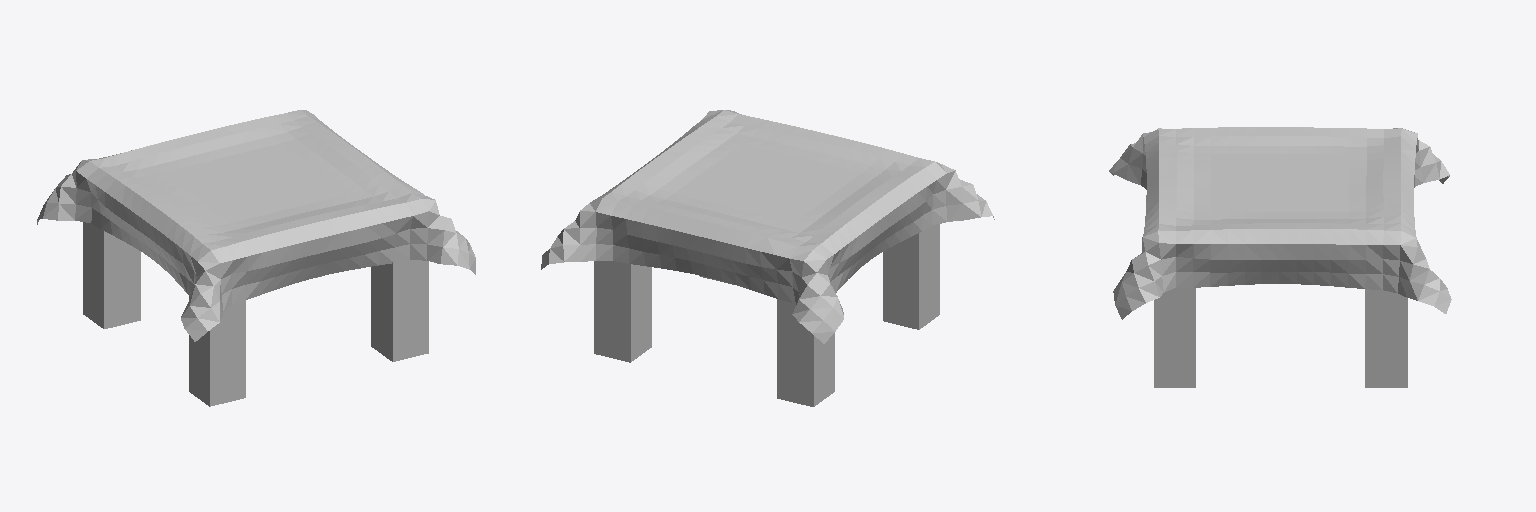
The model's file is ClothTableInOnePart.obj.
The picture shows the model from 3 angles: view 1: azimuth 30°, elevation 25°; view 2: azimuth 150°, elevation 25°; view 3: azimuth 270°, elevation 25°; orthographic projection.
Parts seen in each view (by area): view 1: Plane.001; view 2: Plane.001; view 3: Plane.001.
Boxes of the visible parts, x1=… form: Plane.001: x1=37, y1=110, x2=475, y2=406; Plane.001: x1=541, y1=110, x2=994, y2=406; Plane.001: x1=1109, y1=127, x2=1451, y2=387.
Size of the model in its own units: 5.41 by 2.72 by 5.42.